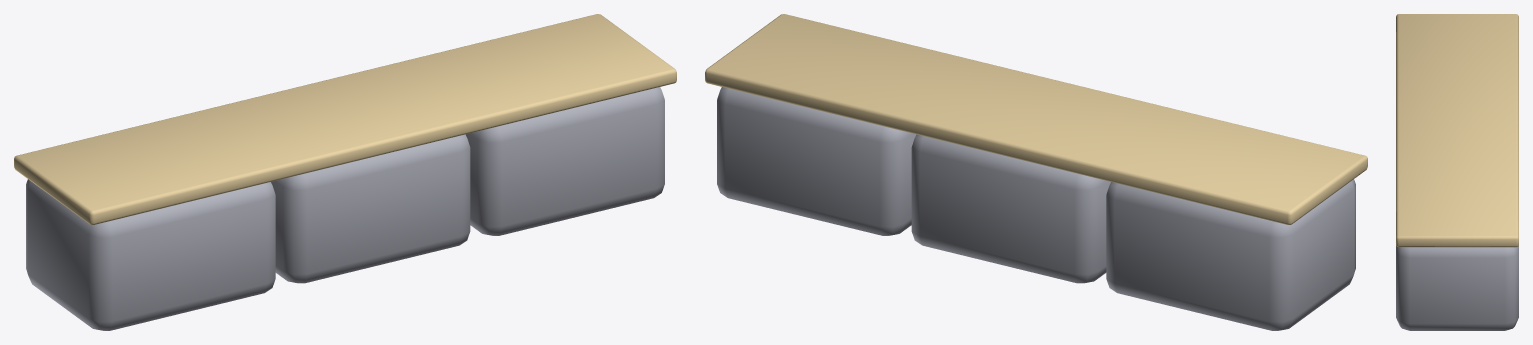
The model's file is low_barrier.glb.
3 views of the same model, side by side, from view 1: azimuth 30°, elevation 25°; view 2: azimuth 150°, elevation 25°; view 3: azimuth 270°, elevation 25° (orthographic). The views are drawn at different scales.
Visible parts, largest first — view 1: low_barrier_Mesh; view 2: low_barrier_Mesh; view 3: low_barrier_Mesh.
Part boxes in pixels (<box>): low_barrier_Mesh: <box>14,14,676,330</box>; low_barrier_Mesh: <box>705,14,1367,330</box>; low_barrier_Mesh: <box>1396,14,1518,330</box>.
Size of the model in its own units: 1.9 by 0.4025 by 0.44.
